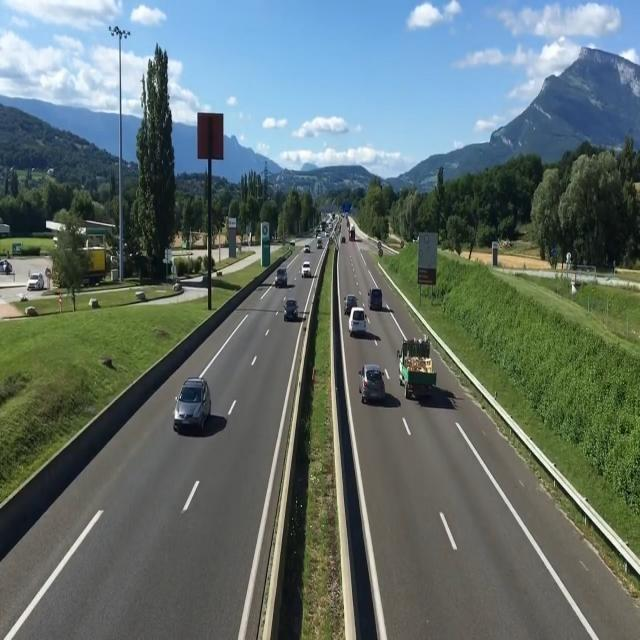Car: (172, 377, 212, 430), (358, 363, 387, 402), (274, 267, 289, 289), (284, 299, 300, 319), (343, 295, 358, 314), (300, 260, 312, 279)
Truck: (396, 334, 438, 400), (368, 288, 383, 311)
Van: (348, 307, 366, 334)
